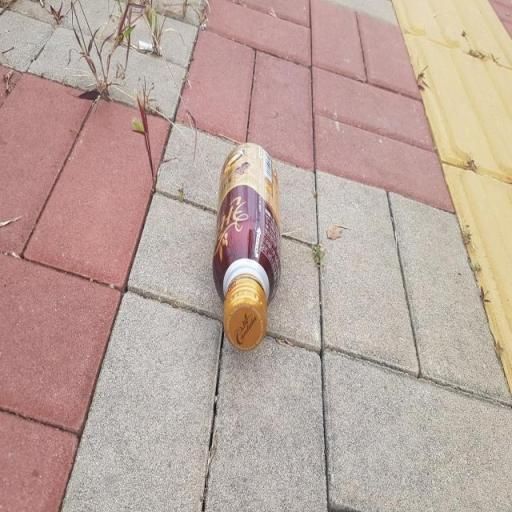metal: (204, 128, 296, 393)
